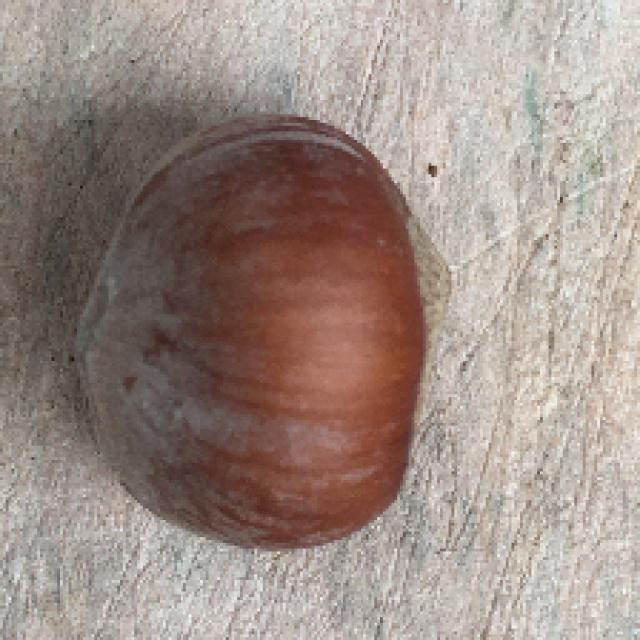qualityHazelnut: (66, 106, 454, 555)
